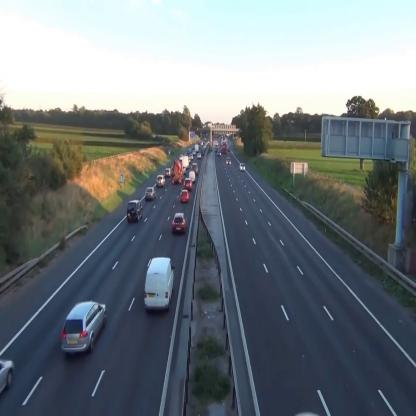car: (61, 301, 106, 355), (127, 200, 143, 220), (172, 214, 187, 234), (145, 187, 156, 200), (156, 174, 166, 186), (180, 190, 190, 202), (184, 177, 193, 190), (165, 167, 172, 176), (189, 171, 195, 181), (226, 156, 231, 165), (240, 163, 245, 172)
lorry: (144, 257, 175, 313), (173, 161, 183, 184)
